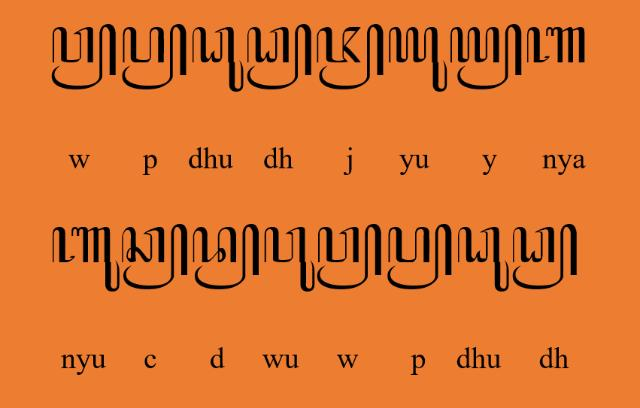-c: (120, 223, 188, 290)
-d: (192, 223, 260, 290)
-dh: (245, 23, 313, 91), (512, 223, 578, 291)
-j: (316, 24, 384, 90)
-p: (122, 23, 188, 91), (386, 223, 452, 291)
-w: (51, 23, 117, 90), (318, 223, 382, 291)
-y: (450, 24, 522, 90)
dhu: (458, 226, 510, 294), (192, 26, 244, 93)
ny1: (527, 26, 587, 64)
nyu1: (51, 226, 120, 294)
wu: (264, 226, 316, 294)
yu: (388, 26, 448, 92)
